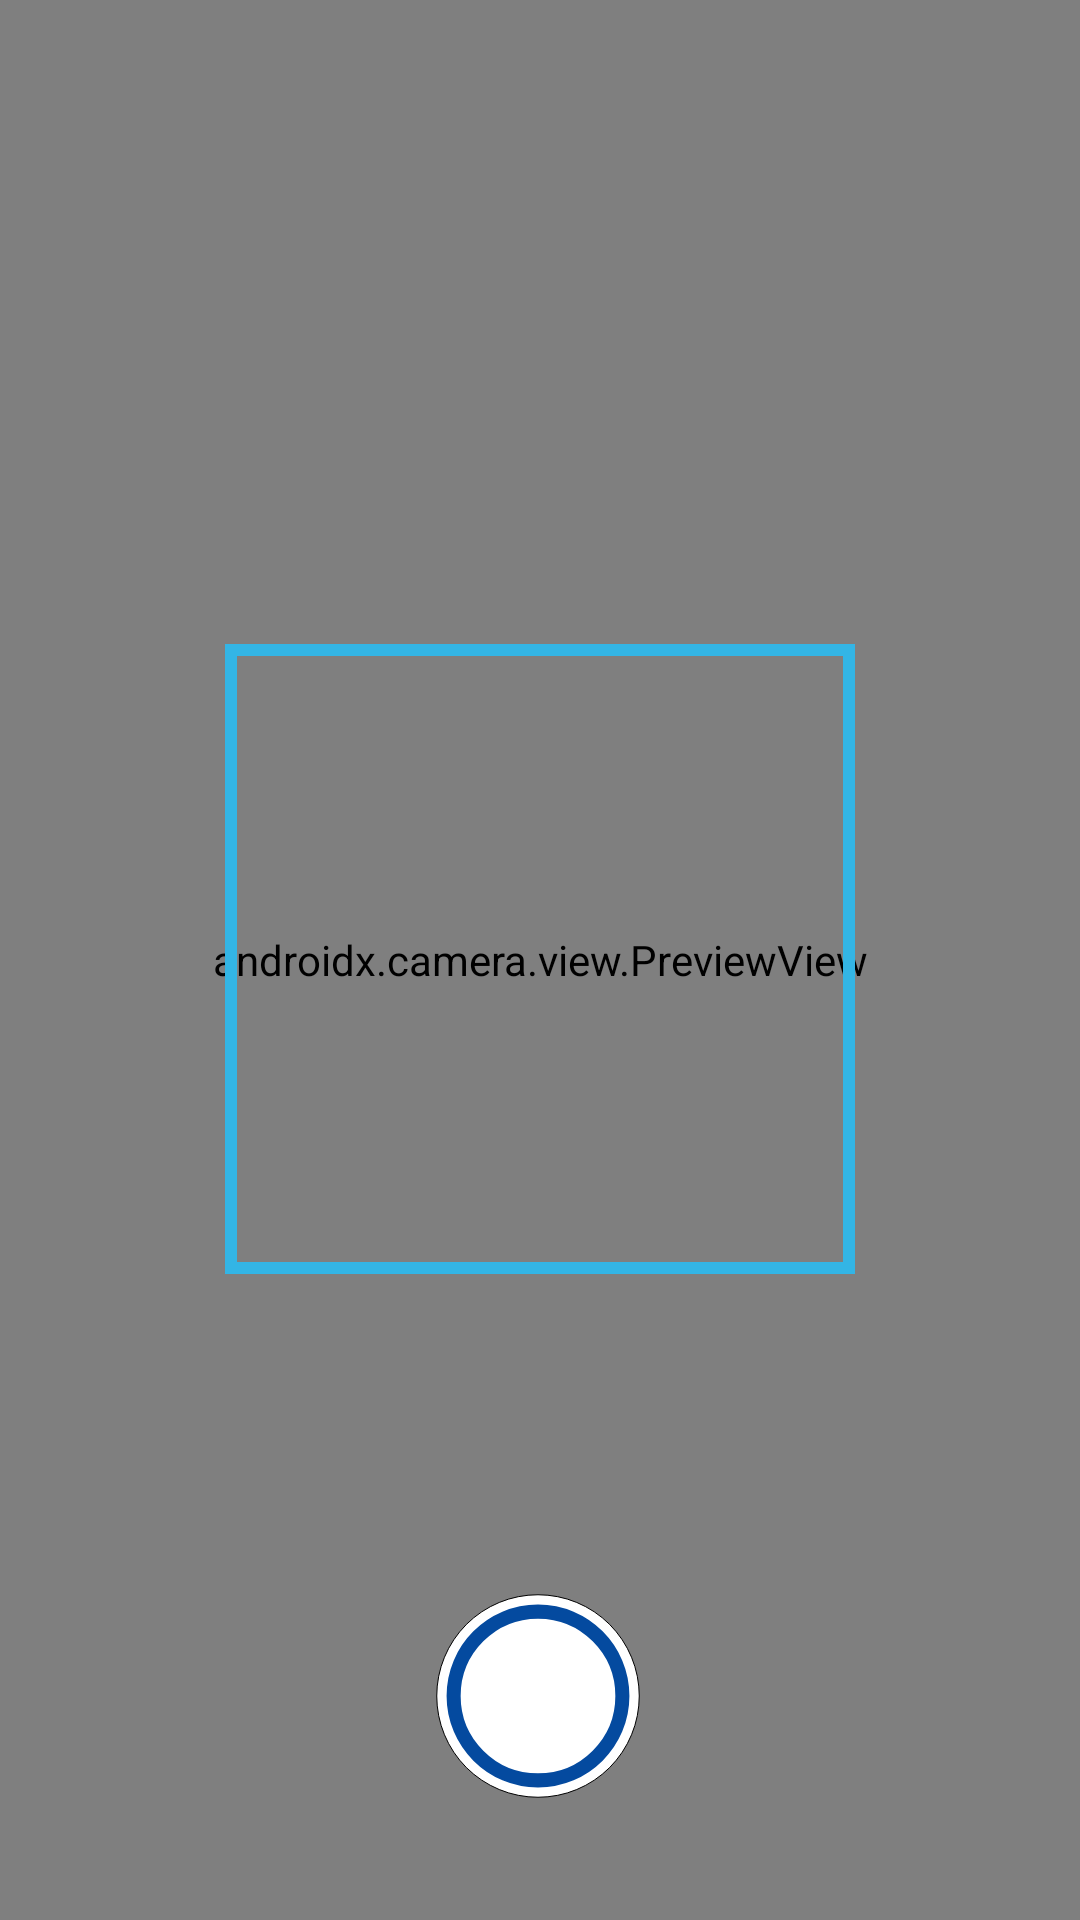

Named icons in this screenshot (1080x1920) and their centers, (x,y):
capture button: (538,1696)
